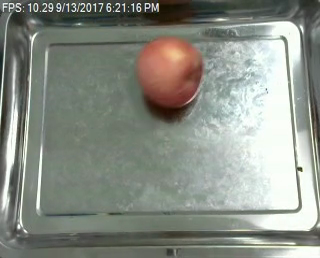Apple: (135, 31, 203, 111)
